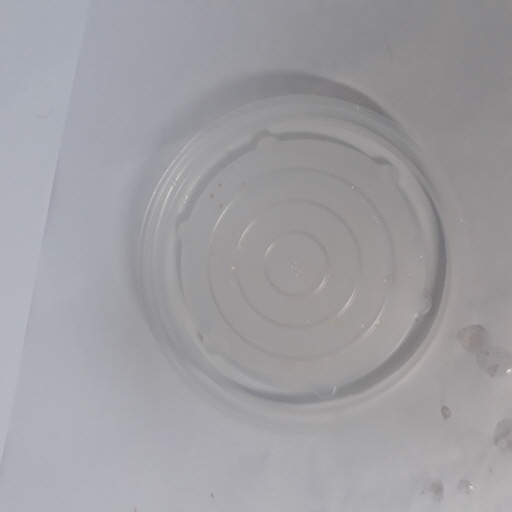Plastic_5: (130, 93, 457, 424)
